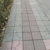others: (21, 1, 47, 49)
